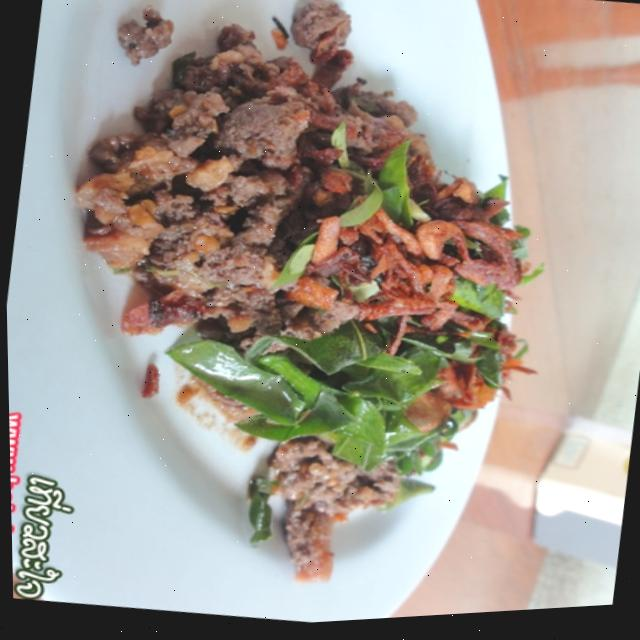鸡肉料理 含炸鸡: (39, 0, 626, 617)
